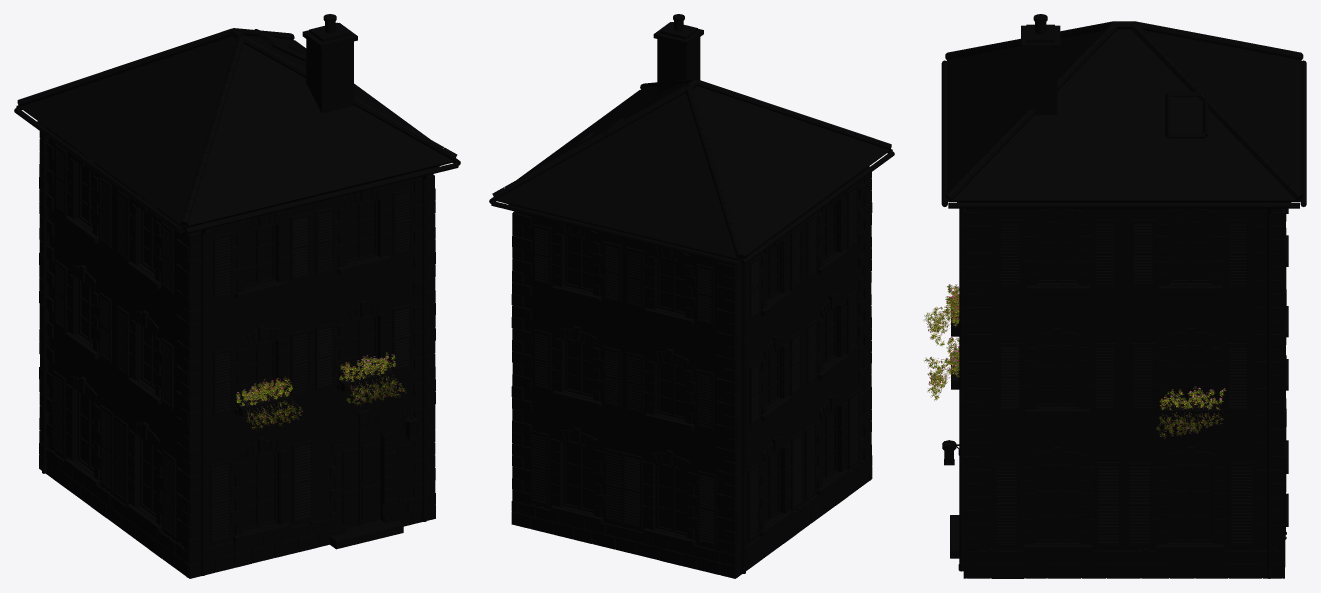
Rendered from House1.fbx.
3 renders of one model, left to right at view 1: azimuth 30°, elevation 25°; view 2: azimuth 150°, elevation 25°; view 3: azimuth 270°, elevation 25°, orthographic. The views are drawn at different scales.
Visible parts, largest first — view 1: House1; view 2: House1; view 3: House1.
Part boxes in pixels (x1,y1,x2,y2): House1: (14, 14, 460, 578); House1: (489, 14, 894, 578); House1: (923, 14, 1306, 578).
Size of the model in its own units: 8.25 by 13.19 by 8.72.
